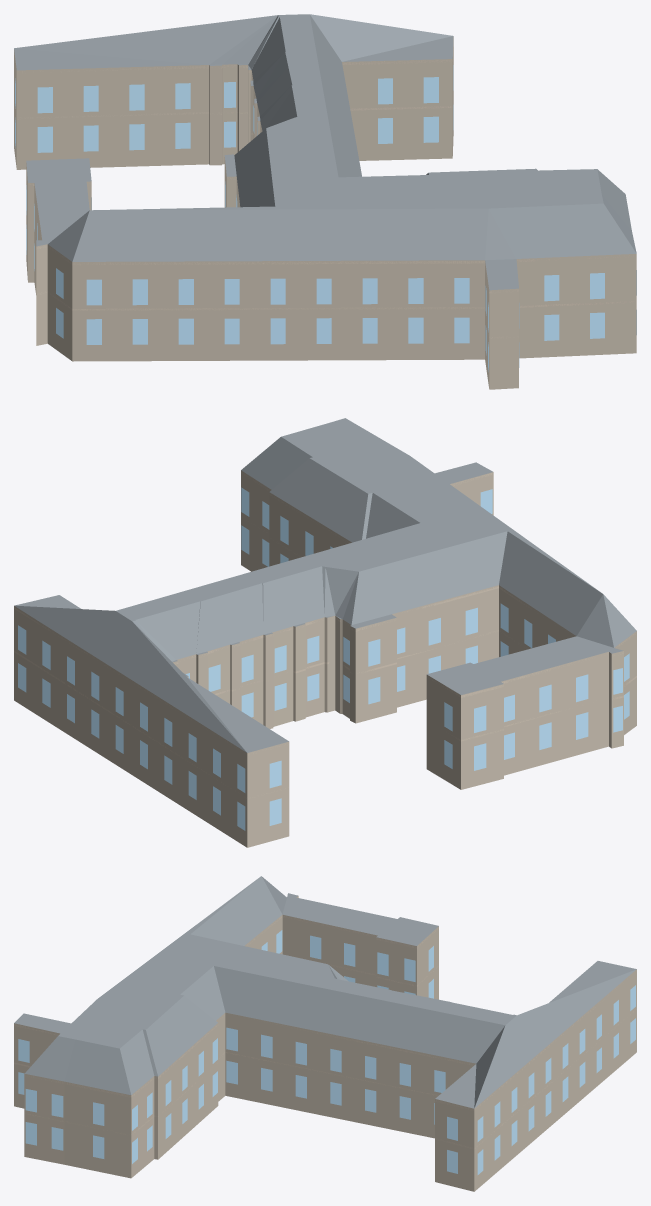
The model's file is detail.glb.
The picture shows the model from 3 angles, top to bottom: view 1: azimuth 30°, elevation 25°; view 2: azimuth 150°, elevation 25°; view 3: azimuth 270°, elevation 25°; orthographic projection. The views are drawn at different scales.
Visible parts, largest first — view 1: stone, roof, window, trim; view 2: stone, roof, window, trim; view 3: stone, roof, window, trim.
Boxes of the visible parts, x1,y1,x2,y2 form: stone: [14, 37, 636, 389]; roof: [14, 14, 636, 290]; window: [15, 65, 636, 371]; trim: [15, 49, 633, 338]; stone: [14, 470, 636, 847]; roof: [14, 418, 636, 752]; window: [18, 487, 629, 830]; trim: [14, 472, 636, 798]; stone: [14, 896, 636, 1191]; roof: [14, 876, 636, 1108]; window: [18, 930, 635, 1174]; trim: [14, 897, 636, 1148].
Size of the model in its own units: 60.05 by 15 by 73.3.
